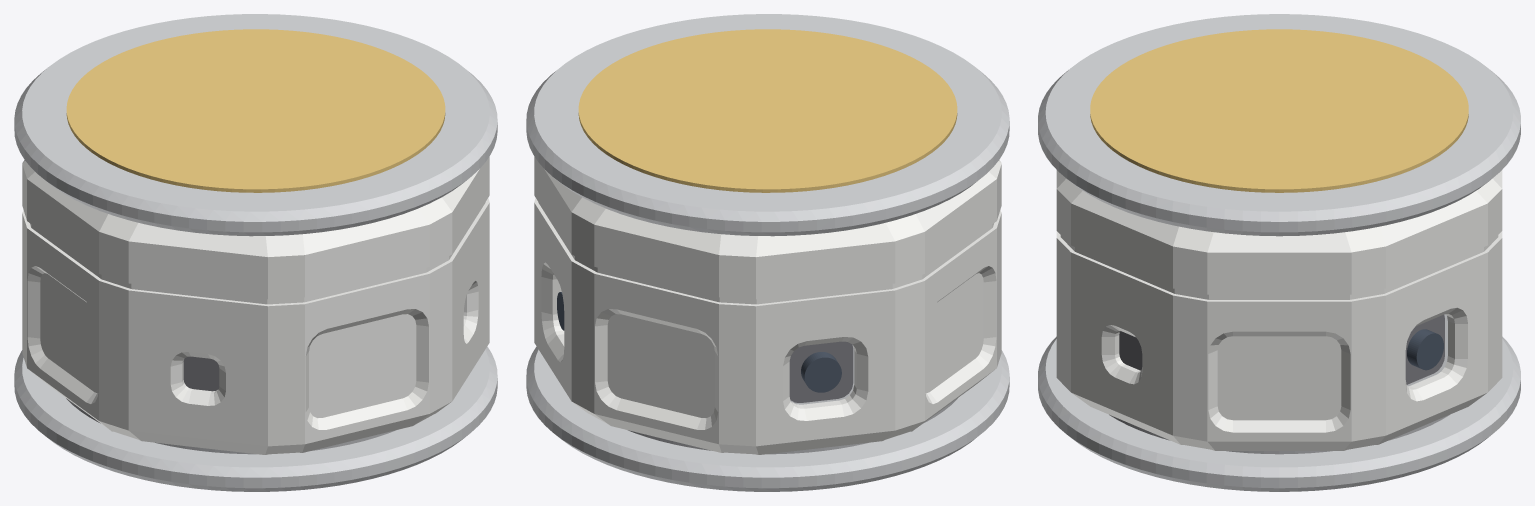
File: ax_cmd_09_probe_core.glb
3 renders of one model, left to right at view 1: azimuth 30°, elevation 25°; view 2: azimuth 150°, elevation 25°; view 3: azimuth 270°, elevation 25°, orthographic.
Visible parts, largest first — view 1: shell, interface_rings, mli_top_disc, sensor_liners, decks; view 2: shell, interface_rings, mli_top_disc, sensor_liners, star_tracker_lenses, decks; view 3: shell, interface_rings, mli_top_disc, sensor_liners, star_tracker_lenses, decks.
Part boxes in pixels (bbox=[...]): shell: bbox=[22, 156, 489, 454]; interface_rings: bbox=[14, 14, 497, 491]; mli_top_disc: bbox=[66, 29, 445, 192]; sensor_liners: bbox=[183, 356, 219, 391]; decks: bbox=[66, 398, 395, 454]; shell: bbox=[534, 156, 1001, 454]; interface_rings: bbox=[526, 14, 1009, 491]; mli_top_disc: bbox=[578, 29, 957, 192]; sensor_liners: bbox=[789, 341, 853, 402]; star_tracker_lenses: bbox=[557, 292, 841, 392]; decks: bbox=[628, 345, 957, 454]; shell: bbox=[1056, 170, 1502, 450]; interface_rings: bbox=[1038, 14, 1520, 491]; mli_top_disc: bbox=[1090, 29, 1468, 192]; sensor_liners: bbox=[1119, 314, 1444, 384]; star_tracker_lenses: bbox=[1407, 329, 1443, 370]; decks: bbox=[1109, 314, 1449, 454].
Bounding box in the file's own units: 0.625 × 0.405 × 0.6245.
